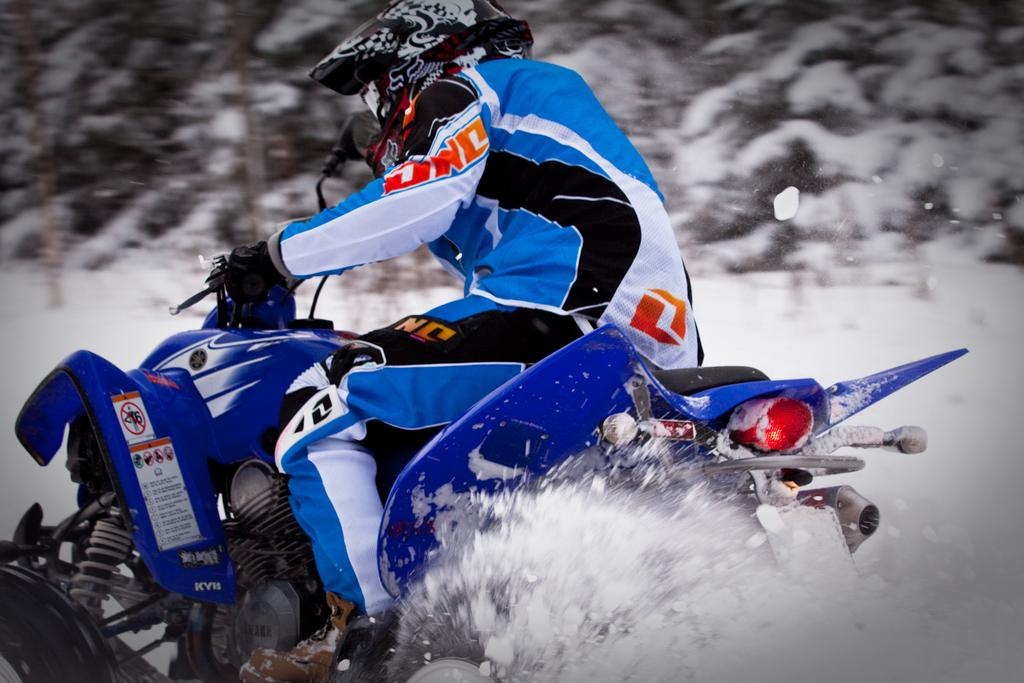helmet: (307, 0, 534, 184)
